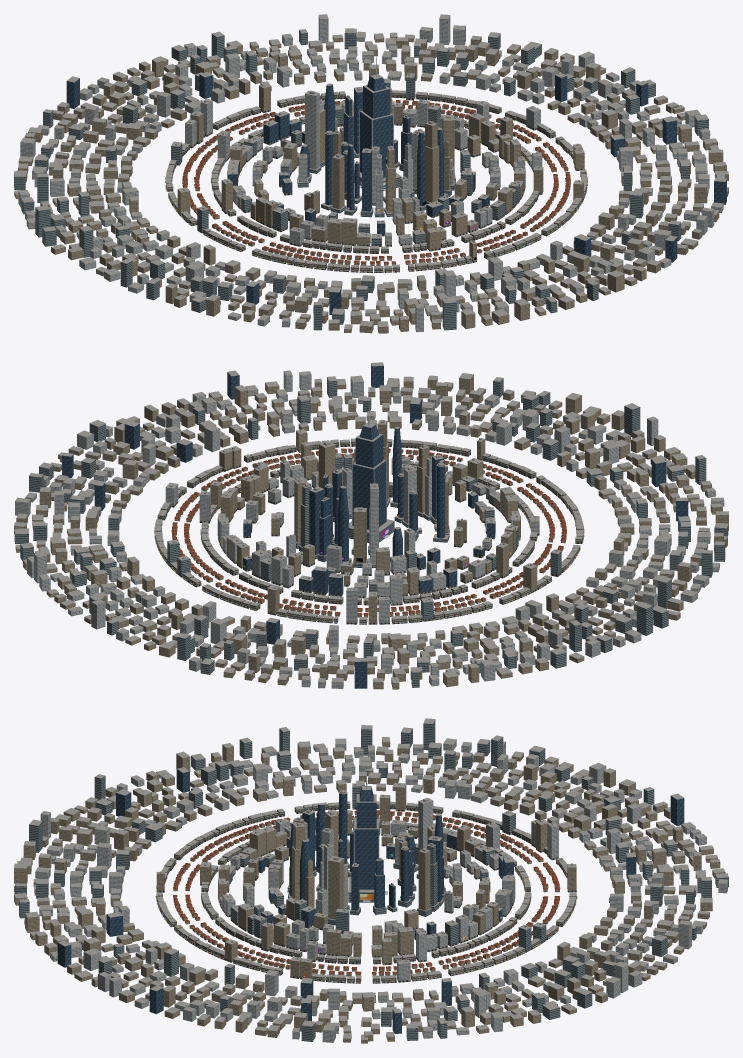
The model's file is City_Buildings.fbx.
3 views of the same model, one above another, from view 1: azimuth 30°, elevation 25°; view 2: azimuth 150°, elevation 25°; view 3: azimuth 270°, elevation 25° (orthographic).
Parts seen in each view (by area): view 1: Backdrop_Skyline, Landmark_Tower, Bld_Inner_B02_Tower_02_LOD0, Bld_Inner_B06_Tower_01_LOD0, Bld_Inner_B04_Tower_01_LOD0, Bld_Inner_B05_Tower_00_LOD0, Bld_Inner_B04_Tower_00_LOD0, Bld_Inner_B05_Tower_02_LOD0, Bld_Inner_B06_Tower_00_LOD0, Bld_Inner_B04_Tower_02_LOD0, Bld_Inner_B05_Tower_01_LOD0; view 2: Backdrop_Skyline, Landmark_Tower, Bld_Inner_B02_Tower_01_LOD0, Bld_Inner_B02_Tower_00_LOD0, Bld_Inner_B04_Tower_00_LOD0, Bld_Inner_B01_Tower_02_LOD0, Bld_Inner_B02_Tower_02_LOD0, Bld_Inner_B01_Tower_03_LOD0, Bld_Inner_B07_Tower_01_LOD0, Bld_Inner_B05_Tower_02_LOD0, Bld_Inner_B01_Tower_01_LOD0, Bld_Inner_B06_Tower_00_LOD0 (+1 smaller); view 3: Backdrop_Skyline, Landmark_Tower, Bld_Inner_B07_Tower_01_LOD0, Bld_Inner_B01_Tower_00_LOD0, Bld_Inner_B06_Tower_01_LOD0, Bld_Inner_B02_Tower_02_LOD0, Bld_Inner_B00_Tower_00_LOD0, Bld_Inner_B04_Tower_00_LOD0, Bld_Inner_B01_Tower_04_LOD0, Bld_Inner_B01_Tower_01_LOD0.
Part boxes in pixels (bbox=[...]): Backdrop_Skyline: bbox=[14, 14, 728, 333]; Landmark_Tower: bbox=[354, 56, 401, 190]; Bld_Inner_B02_Tower_02_LOD0: bbox=[305, 90, 321, 173]; Bld_Inner_B06_Tower_01_LOD0: bbox=[425, 121, 439, 203]; Bld_Inner_B04_Tower_01_LOD0: bbox=[330, 153, 346, 213]; Bld_Inner_B05_Tower_00_LOD0: bbox=[360, 148, 373, 217]; Bld_Inner_B04_Tower_00_LOD0: bbox=[321, 130, 333, 210]; Bld_Inner_B05_Tower_02_LOD0: bbox=[384, 145, 395, 216]; Bld_Inner_B06_Tower_00_LOD0: bbox=[417, 131, 426, 210]; Bld_Inner_B04_Tower_02_LOD0: bbox=[344, 144, 357, 215]; Bld_Inner_B05_Tower_01_LOD0: bbox=[374, 154, 384, 217]; Backdrop_Skyline: bbox=[14, 362, 728, 689]; Landmark_Tower: bbox=[349, 404, 394, 542]; Bld_Inner_B02_Tower_01_LOD0: bbox=[352, 507, 368, 567]; Bld_Inner_B02_Tower_00_LOD0: bbox=[337, 486, 351, 563]; Bld_Inner_B04_Tower_00_LOD0: bbox=[433, 462, 449, 542]; Bld_Inner_B01_Tower_02_LOD0: bbox=[309, 486, 324, 559]; Bld_Inner_B02_Tower_02_LOD0: bbox=[368, 483, 378, 568]; Bld_Inner_B01_Tower_03_LOD0: bbox=[317, 497, 331, 562]; Bld_Inner_B07_Tower_01_LOD0: bbox=[318, 441, 335, 488]; Bld_Inner_B05_Tower_02_LOD0: bbox=[417, 444, 429, 517]; Bld_Inner_B01_Tower_01_LOD0: bbox=[299, 484, 311, 551]; Bld_Inner_B06_Tower_00_LOD0: bbox=[390, 426, 401, 507]; Backdrop_Skyline: bbox=[14, 718, 728, 1043]; Landmark_Tower: bbox=[348, 767, 387, 902]; Bld_Inner_B07_Tower_01_LOD0: bbox=[328, 856, 344, 925]; Bld_Inner_B01_Tower_00_LOD0: bbox=[417, 848, 431, 916]; Bld_Inner_B06_Tower_01_LOD0: bbox=[291, 822, 304, 900]; Bld_Inner_B02_Tower_02_LOD0: bbox=[416, 798, 433, 878]; Bld_Inner_B00_Tower_00_LOD0: bbox=[373, 857, 386, 914]; Bld_Inner_B04_Tower_00_LOD0: bbox=[339, 790, 349, 868]; Bld_Inner_B01_Tower_04_LOD0: bbox=[398, 846, 411, 907]; Bld_Inner_B01_Tower_01_LOD0: bbox=[427, 843, 439, 911].
Size of what is drawn, in the model's own units: 1512 by 300 by 1514.
